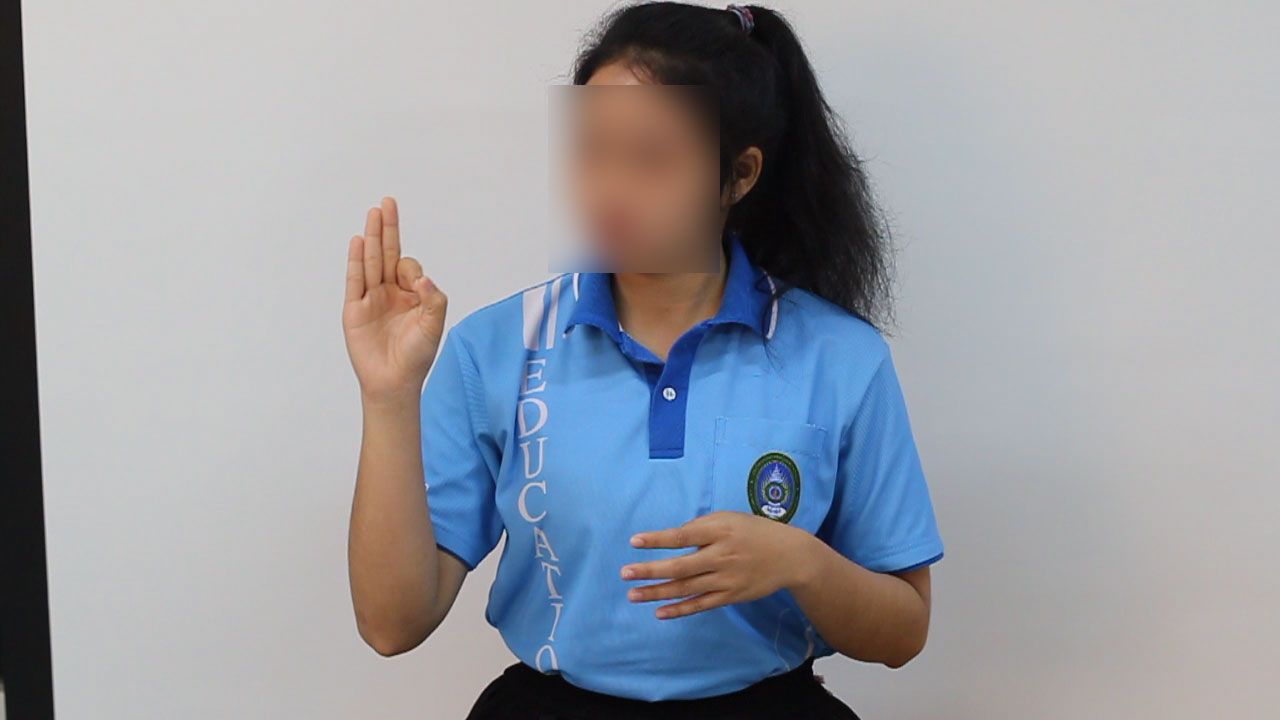for: (330, 186, 460, 423)
